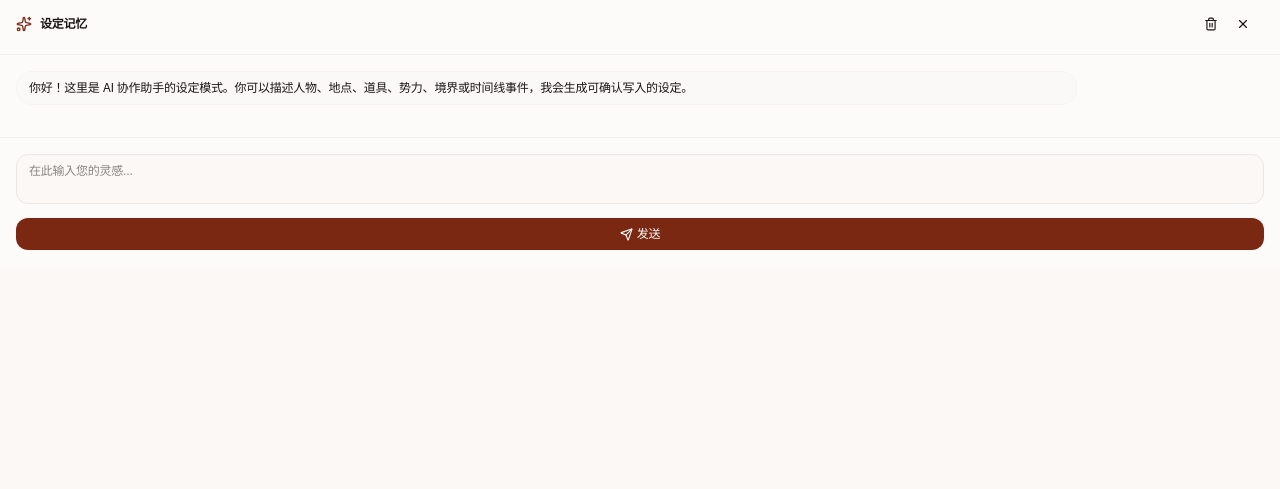
it: WorldBibleAssistant continuation batch sync › 最新请求失败后不复用旧回复准备同步
Type "处理资料包中的设定" into the text box named "输入设定灵感" at [640, 179], box x1=16 y1=154 x2=1264 y2=204
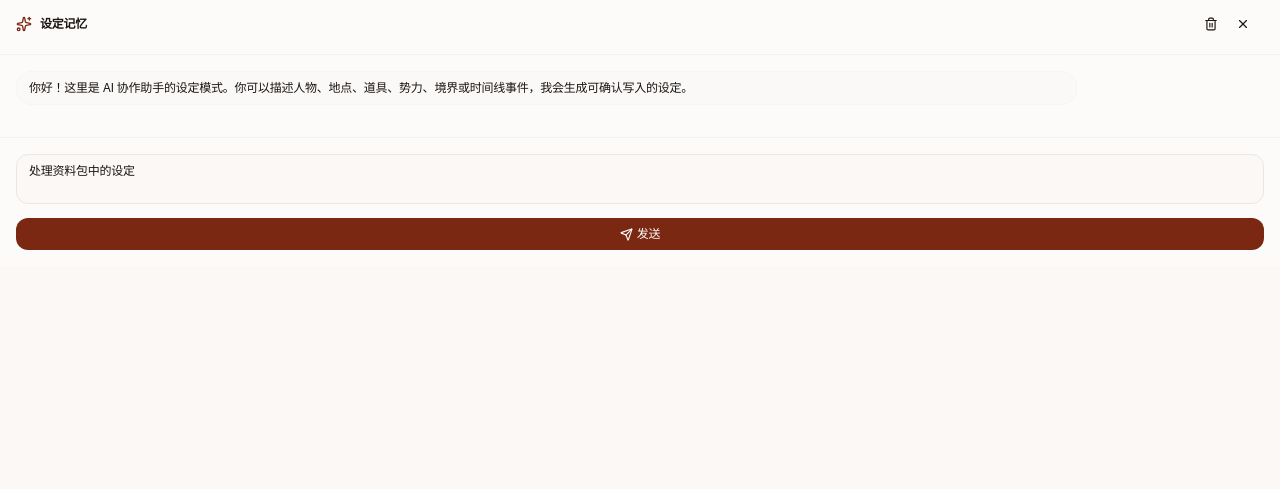
Click the button with aria-label "发送设定灵感" at [640, 234], box x1=16 y1=218 x2=1264 y2=250
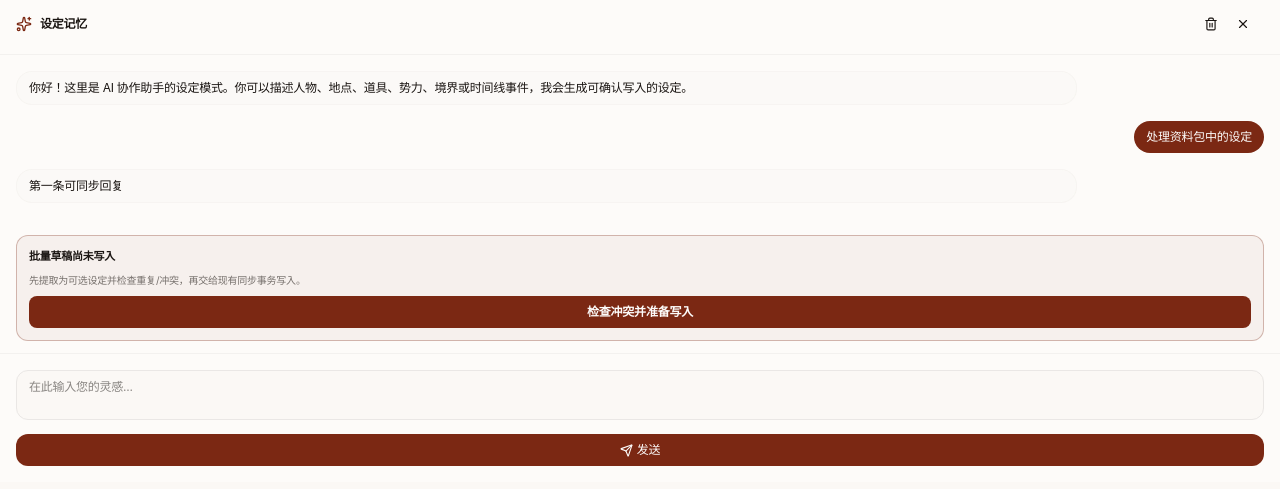
Check: the text "第一条可同步回复" is shown, box x1=29 y1=178 x2=123 y2=193
Check: the button "检查冲突并准备写入" is shown, box x1=29 y1=296 x2=1251 y2=328
Type "生成第二条回复" into the text box named "输入设定灵感" at [640, 394], box x1=16 y1=370 x2=1264 y2=420
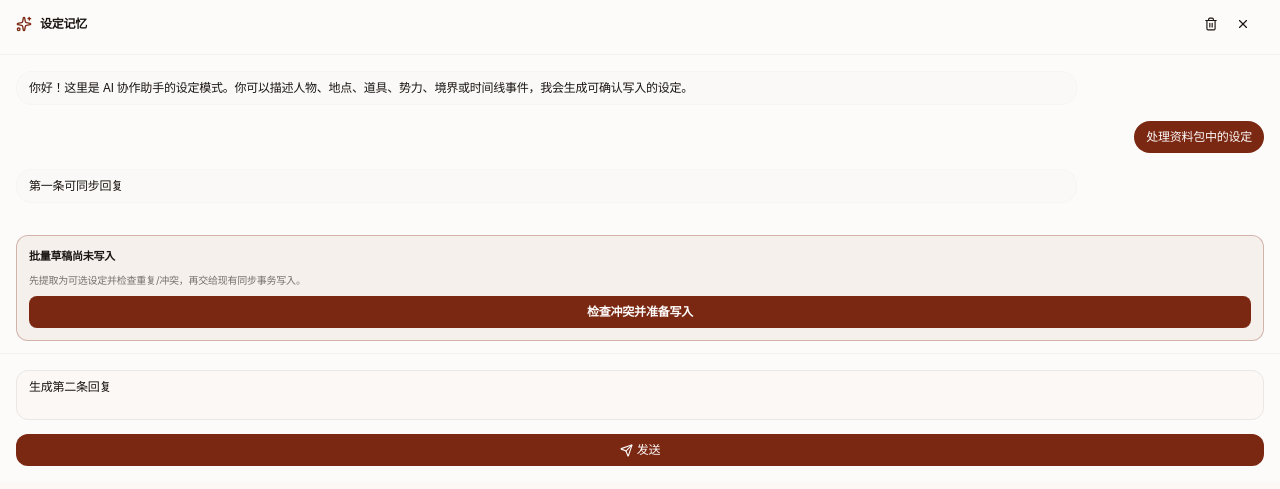
Click the button with aria-label "发送设定灵感" at [640, 450], box x1=16 y1=434 x2=1264 y2=466
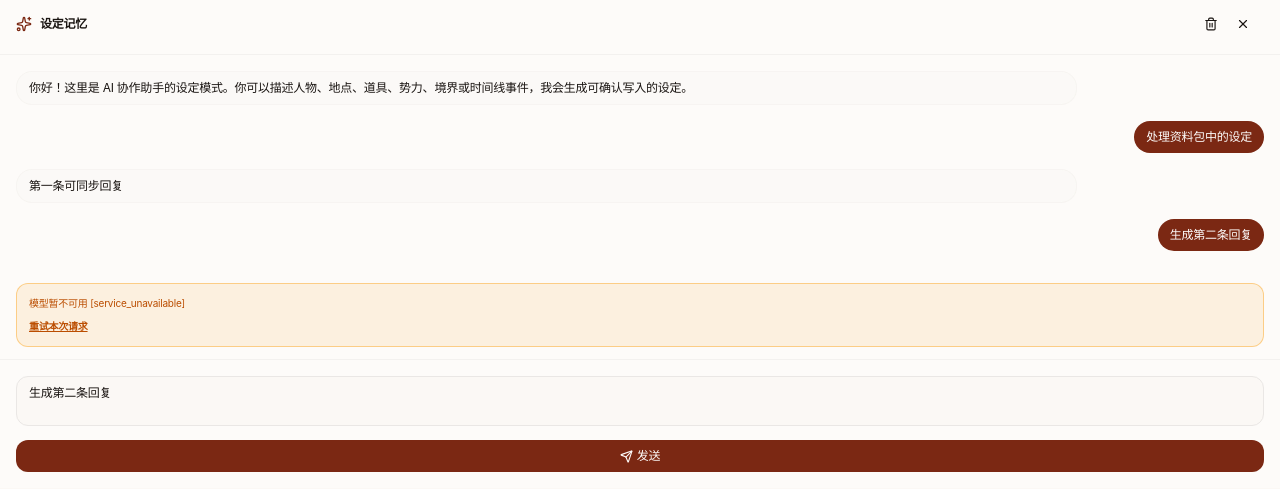
Check: the message named "助手请求失败" shows "模型暂不可用", box x1=29 y1=297 x2=185 y2=309
Check: the button "检查冲突并准备写入" is gone
